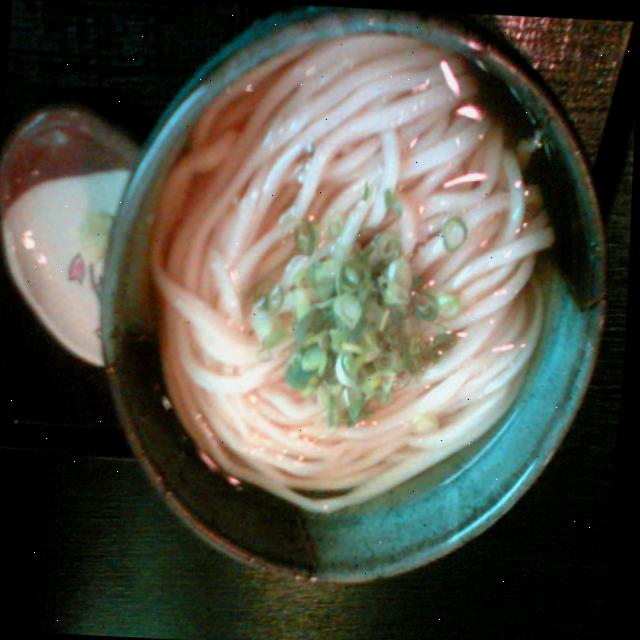面条主食: (120, 2, 596, 553)
